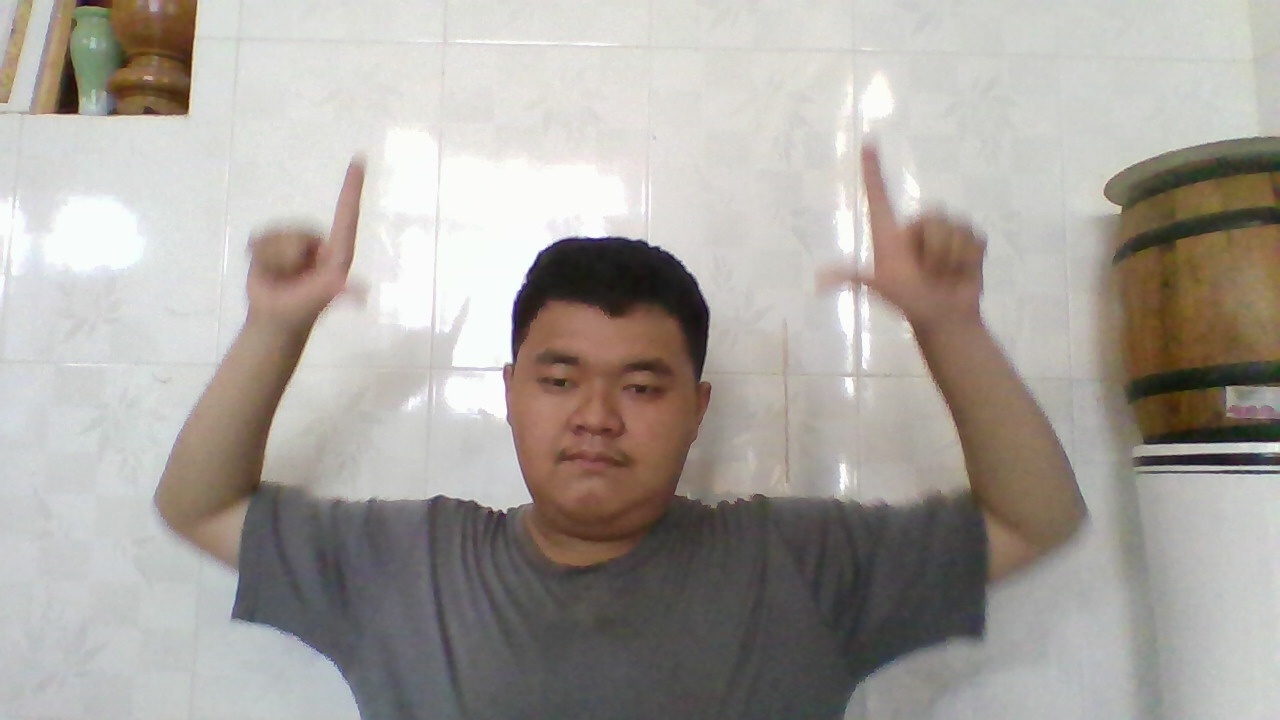L: (803, 141, 991, 348), (241, 160, 368, 352)
